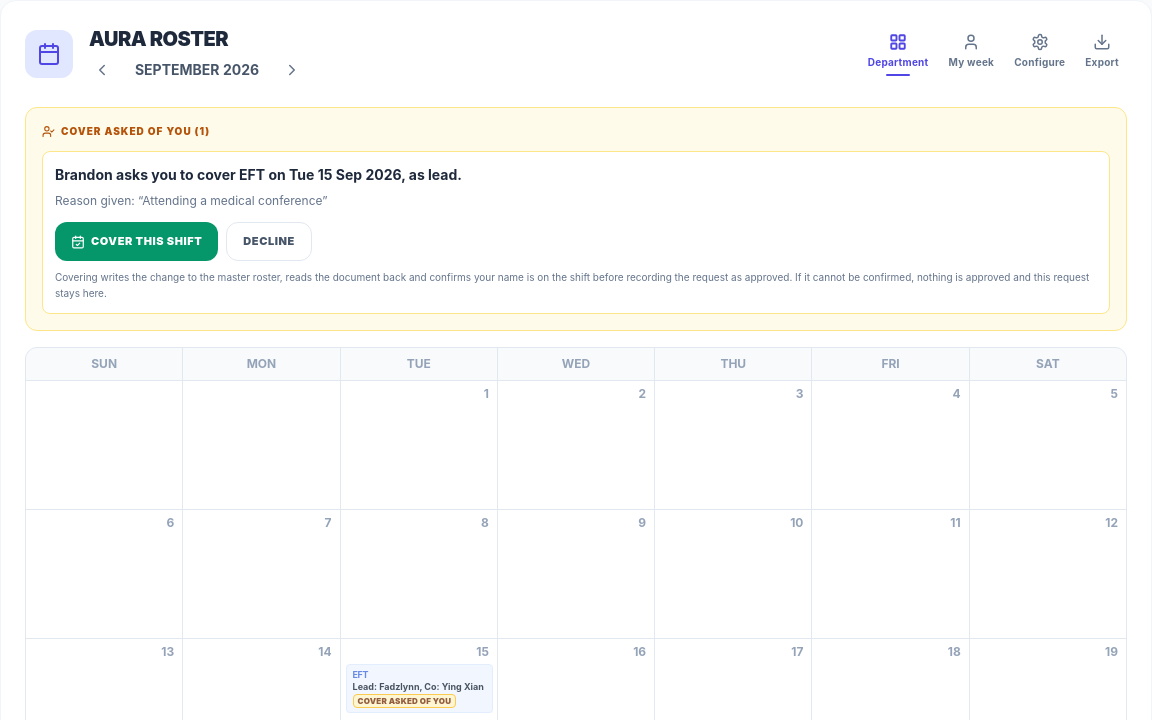
Test: a swap that cannot be applied leaves the request PENDING and says so › refuses without writing anything when the requester no longer holds the duty
The width and height of the screenshot is (1152, 720).
Click the button "Cover this shift". click: (137, 242)
box: [55,222,218,261]
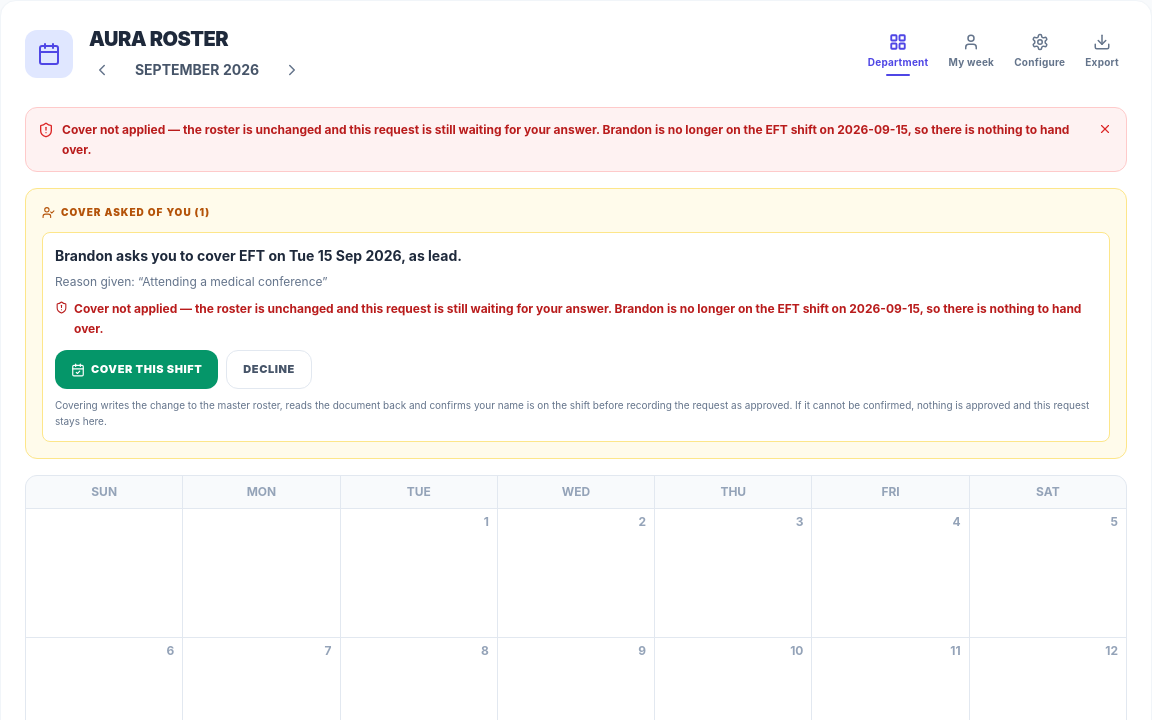
Expected: the 1st text "no longer on the EFT shift" is shown, [62,122,1069,156]
Expected: the text "still waiting" below "Cover asked of you (1)" is shown, [74,301,1081,336]
Expected: the text "Cover not applied" is shown 2 times, [62,120,1088,159]; [74,299,1097,338]
